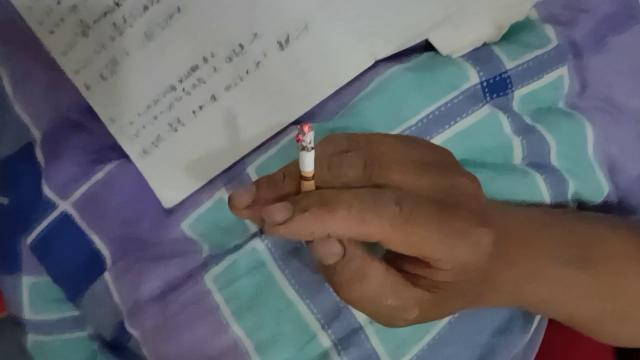Smoking: (296, 121, 316, 211)
